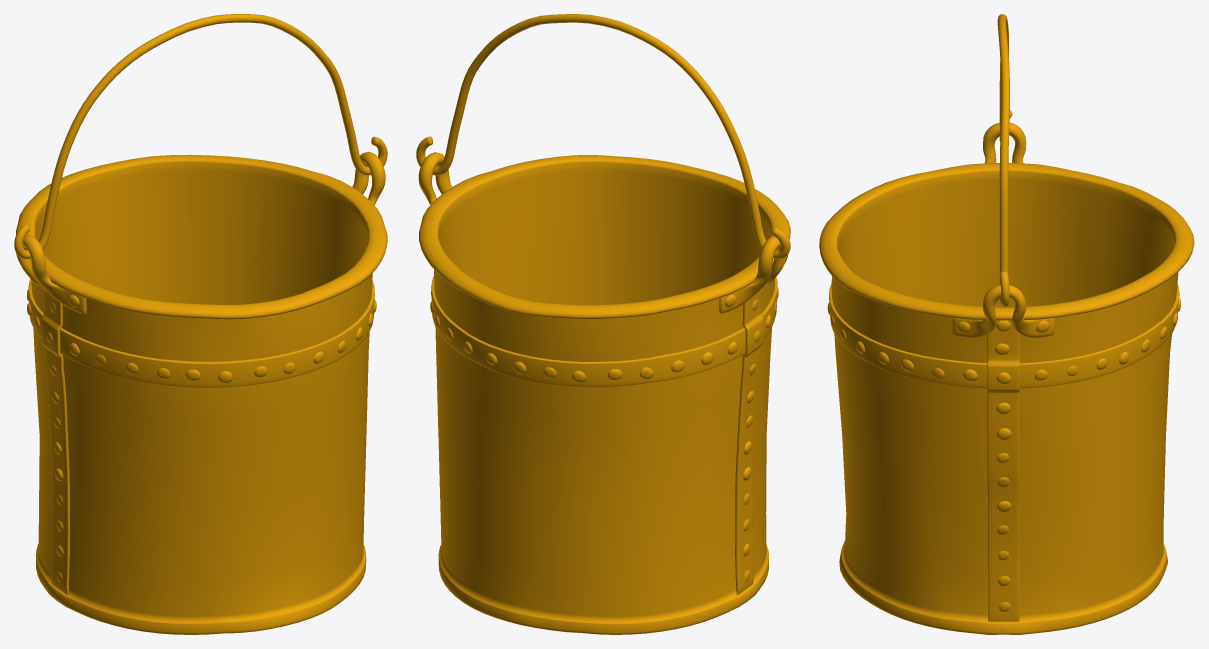
Rendered from Bucket.fbx.
3 views of the same model, side by side, from view 1: azimuth 30°, elevation 25°; view 2: azimuth 150°, elevation 25°; view 3: azimuth 270°, elevation 25° (orthographic). The views are drawn at different scales.
Parts seen in each view (by area): view 1: Osnova, Obruch, Ruchka, Rebra, Zaklepki; view 2: Osnova, Obruch, Ruchka, Rebra, Zaklepki; view 3: Osnova, Rebra, Obruch, Zaklepki, Ruchka.
Part boxes in pixels (left/top/right/bottom): Osnova: left=16, top=154, right=387, bottom=634; Obruch: left=28, top=279, right=374, bottom=387; Ruchka: left=14, top=14, right=387, bottom=258; Rebra: left=41, top=289, right=69, bottom=594; Zaklepki: left=16, top=152, right=385, bottom=582; Osnova: left=419, top=155, right=790, bottom=634; Obruch: left=431, top=276, right=777, bottom=386; Ruchka: left=416, top=14, right=790, bottom=258; Rebra: left=735, top=288, right=764, bottom=594; Zaklepki: left=418, top=152, right=788, bottom=581; Osnova: left=819, top=163, right=1194, bottom=634; Rebra: left=987, top=320, right=1019, bottom=621; Obruch: left=829, top=283, right=1179, bottom=388; Zaklepki: left=827, top=122, right=1180, bottom=611; Ruchka: left=997, top=14, right=1012, bottom=307.
Size of the model in its own units: 48.52 by 68.23 by 43.28.
